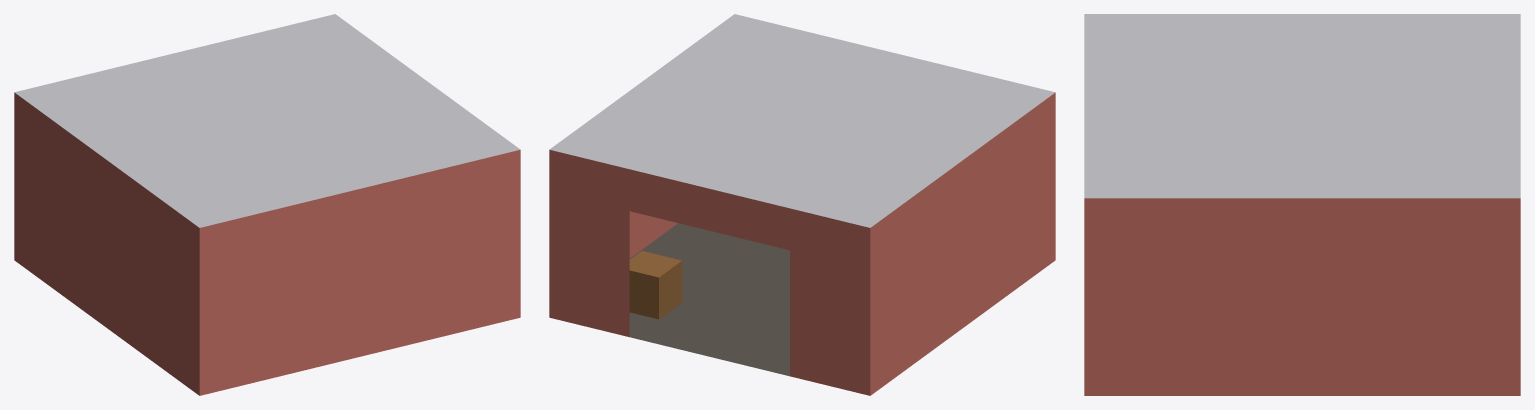
File: level_fps_A.obj
3 renders of one model, left to right at view 1: azimuth 30°, elevation 25°; view 2: azimuth 150°, elevation 25°; view 3: azimuth 270°, elevation 25°, orthographic. The views are drawn at different scales.
Visible parts, largest first — view 1: A_spawn; view 2: A_spawn; view 3: A_spawn.
Part boxes in pixels (x1,y1,x2,y2): A_spawn: (14,14,520,395); A_spawn: (549,14,1055,395); A_spawn: (1084,14,1520,395).
Size of the model in its own units: 8 by 4 by 8.
